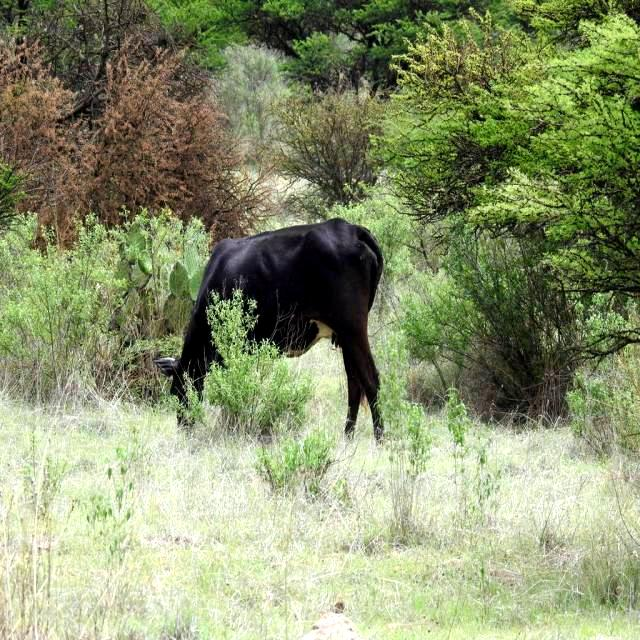COW: (158, 219, 384, 442)
